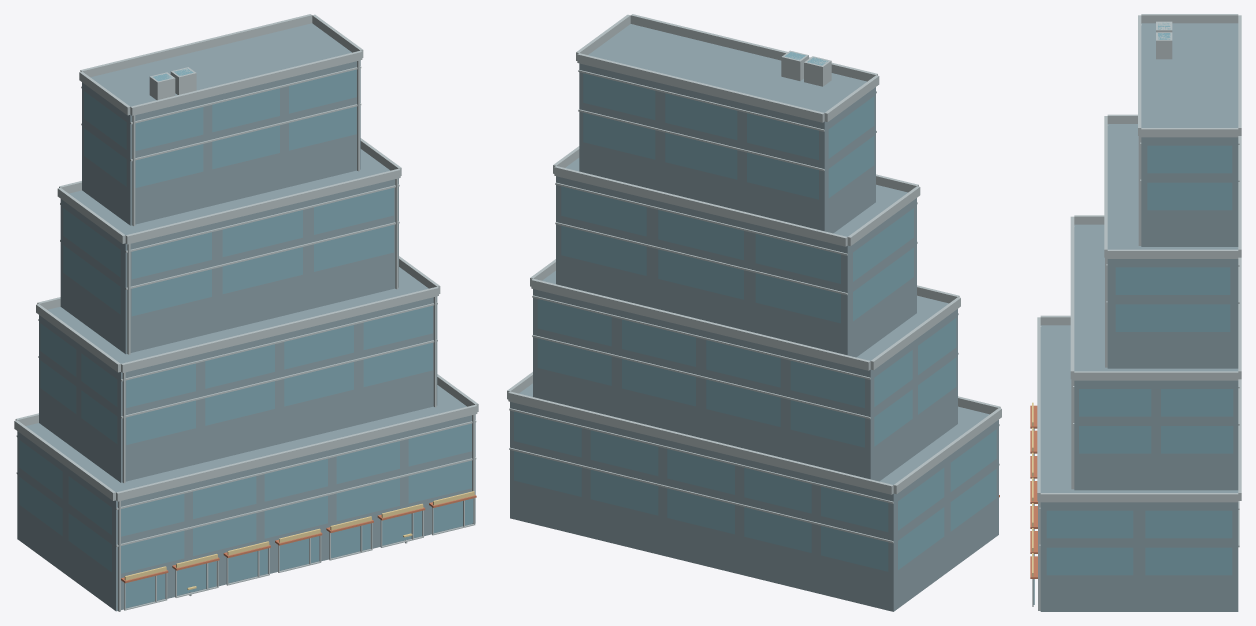
Rendered from commercial_4x2_terraces.glb.
The picture shows the model from 3 angles, left to right: view 1: azimuth 30°, elevation 25°; view 2: azimuth 150°, elevation 25°; view 3: azimuth 270°, elevation 25°; orthographic projection. The views are drawn at different scales.
Visible parts, largest first — view 1: commercial_4x2_terraces_0; view 2: commercial_4x2_terraces_0; view 3: commercial_4x2_terraces_0.
Boxes of the visible parts, x1,y1,x2,y2 form: commercial_4x2_terraces_0: (14, 14, 478, 611); commercial_4x2_terraces_0: (507, 14, 1001, 611); commercial_4x2_terraces_0: (1030, 14, 1241, 611).
Size of the model in its own units: 31 by 37.5 by 15.5.
